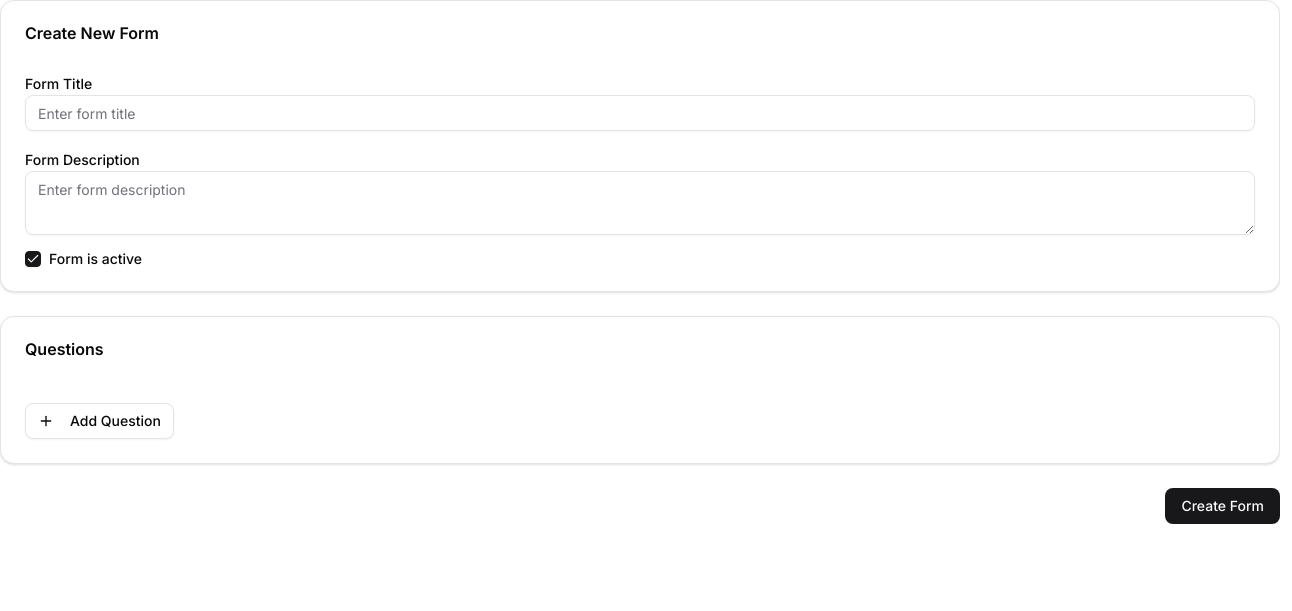
Test case: FormBuilder › adds a new question
Click the button "Add Question".
click(100, 421)  # box [25,403,174,439]
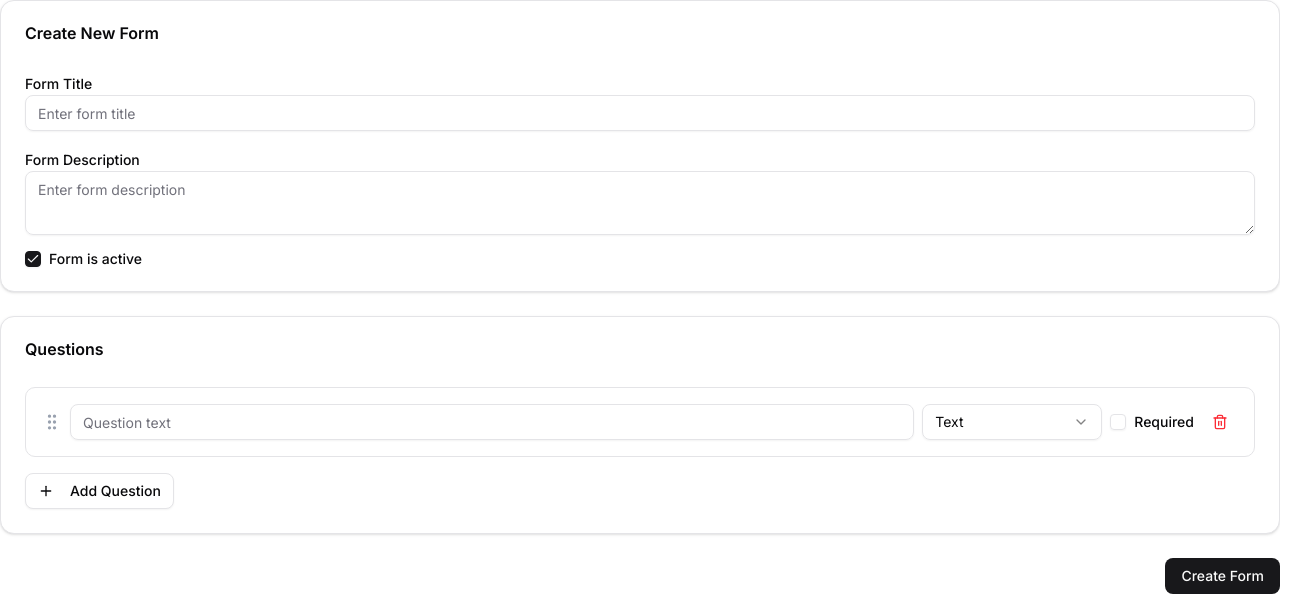
Expected: the field with placeholder "Question text" is shown, [70,404,914,440]
